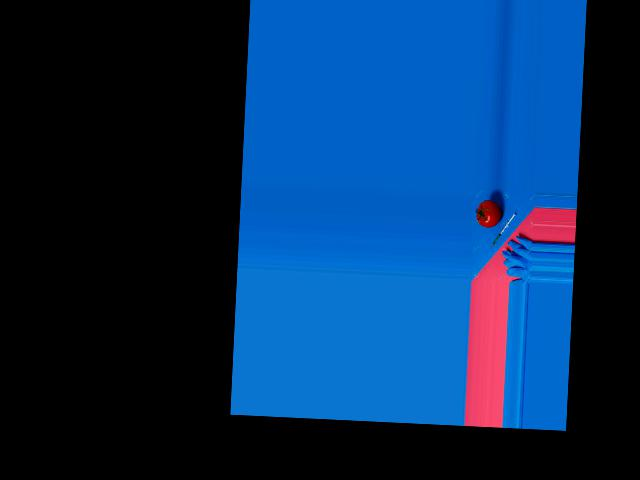tomato: (476, 200, 502, 228)
